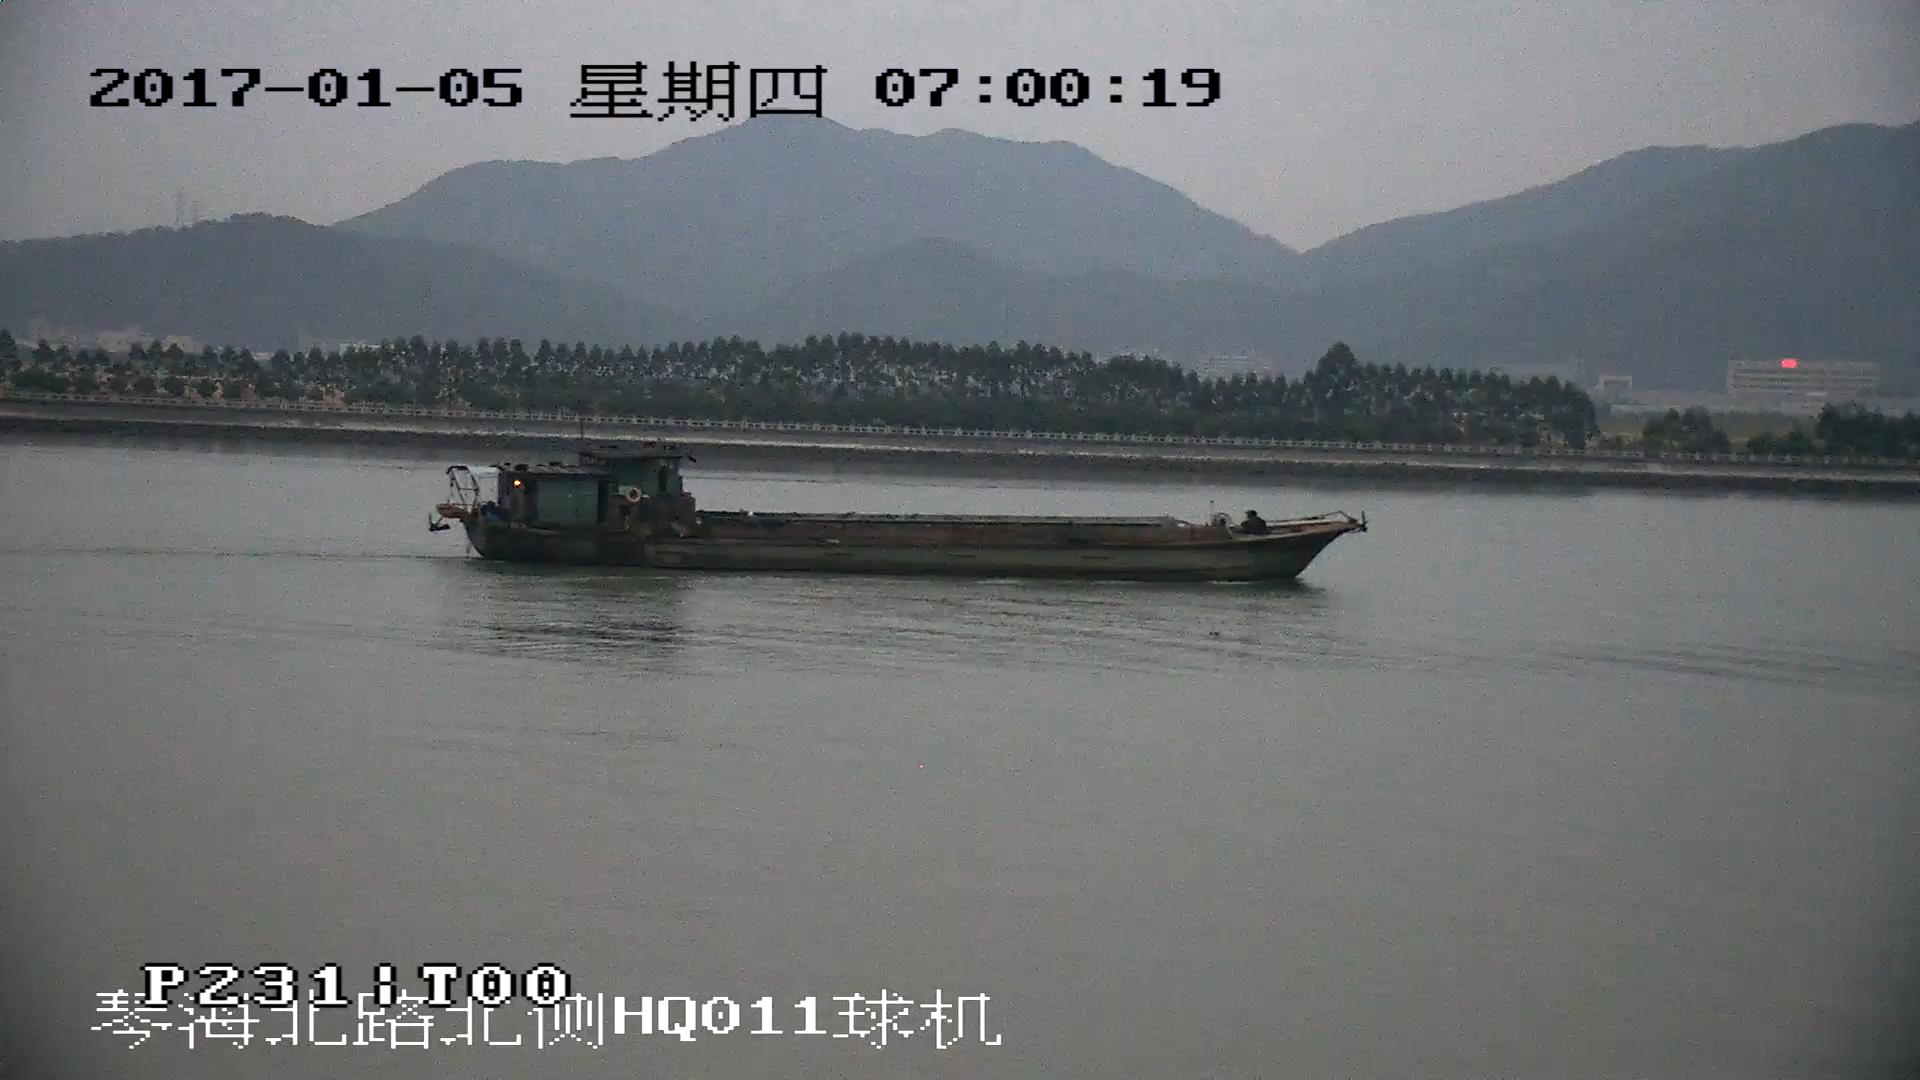bulk cargo carrier: (425, 452, 1370, 586)
